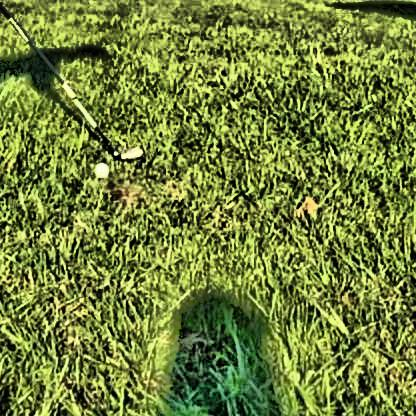golfball: (91, 159, 106, 176)
